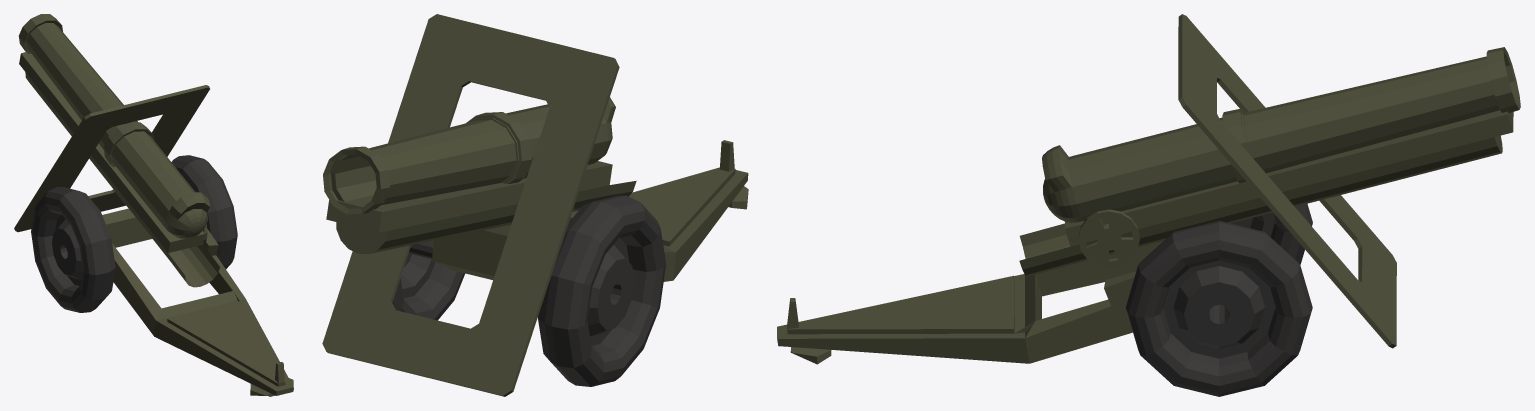
File: CANNON2.fbx
The picture shows the model from 3 angles, left to right: view 1: azimuth 30°, elevation 25°; view 2: azimuth 150°, elevation 25°; view 3: azimuth 270°, elevation 25°; orthographic projection. The views are drawn at different scales.
Visible parts, largest first — view 1: Circle.002; view 2: Circle.002; view 3: Circle.002.
Boxes of the visible parts, x1,y1,x2,y2 form: Circle.002: (14, 14, 293, 396); Circle.002: (322, 14, 748, 396); Circle.002: (777, 14, 1520, 396).
Bounding box in the file's own units: 341 × 441 × 976.
